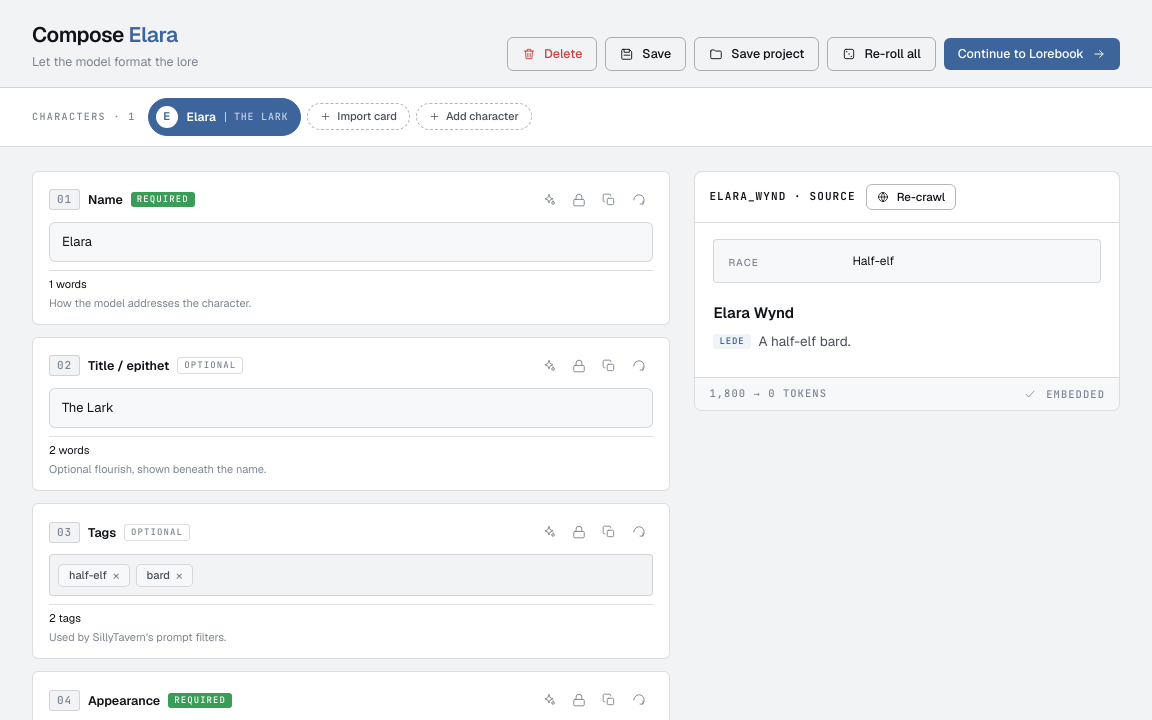
EditorScreen › handles save project error gracefully
The width and height of the screenshot is (1152, 720).
Click the button "Save project" at [757, 54], box [694,37,819,71]
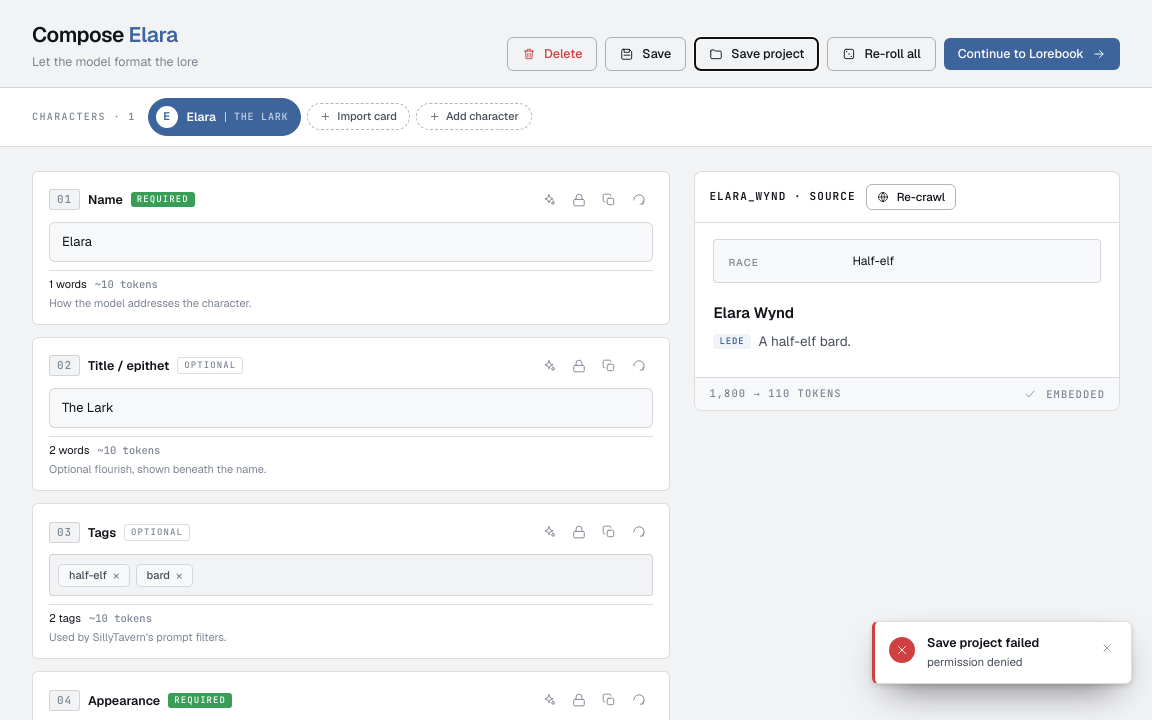
Expected: the text "Save project failed" is shown, [927,634,1039,651]
